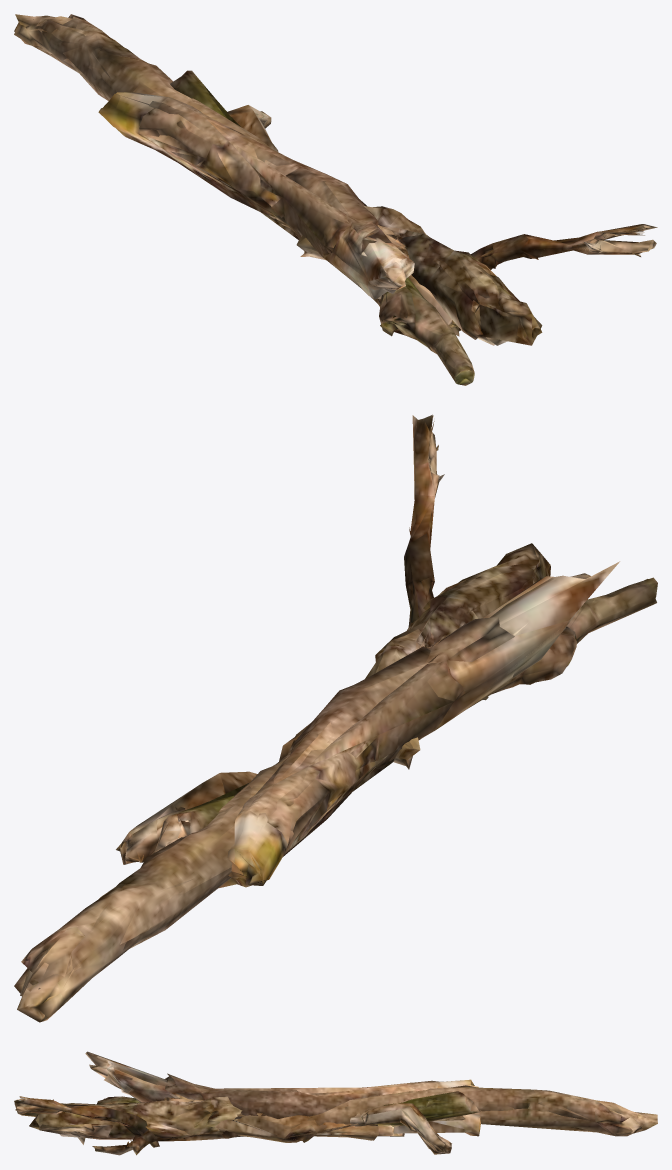
Rendered from runtime-driftwood.glb.
The picture shows the model from 3 angles, top to bottom: view 1: azimuth 30°, elevation 25°; view 2: azimuth 150°, elevation 25°; view 3: azimuth 270°, elevation 25°; orthographic projection. The views are drawn at different scales.
Visible parts, largest first — view 1: WoodDead_bxey3_Big_lod0_OL; view 2: WoodDead_bxey3_Big_lod0_OL; view 3: WoodDead_bxey3_Big_lod0_OL.
Boxes of the visible parts, box(x1,y1,x2,y2) form: WoodDead_bxey3_Big_lod0_OL: box(14, 14, 657, 385); WoodDead_bxey3_Big_lod0_OL: box(14, 414, 657, 1022); WoodDead_bxey3_Big_lod0_OL: box(14, 1051, 657, 1155).
Size of the model in its own units: 0.1567 by 0.0827 by 0.5922.
1 material, 1 textured.
